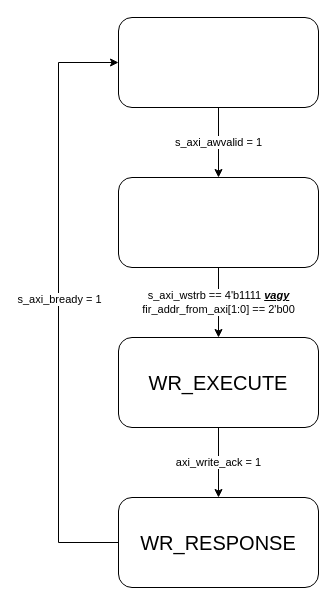
Image size: 336x605. Some labels were removed from this diagram. The centre of each missing label's shape, as x and y in pixels:
"WR_ADDR_WAIT" goes at point (218, 62).
"WR_DATA_WAIT" goes at point (218, 222).
